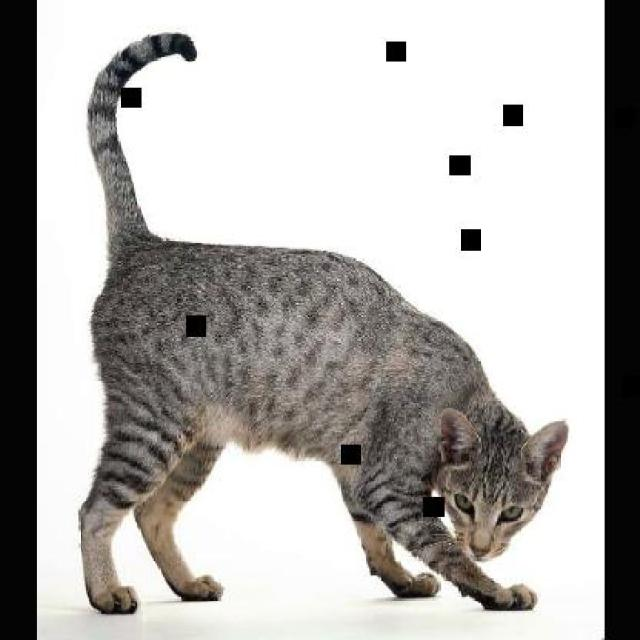unauthorized: (77, 31, 568, 615)
